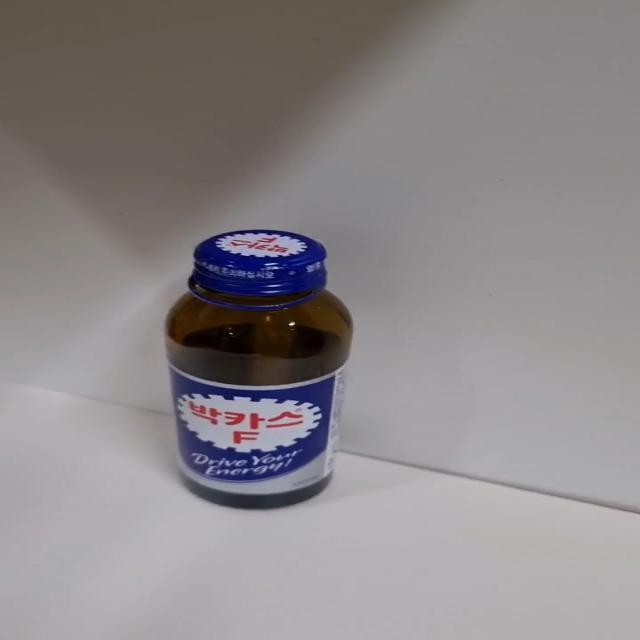Glass: (162, 229, 356, 512)
